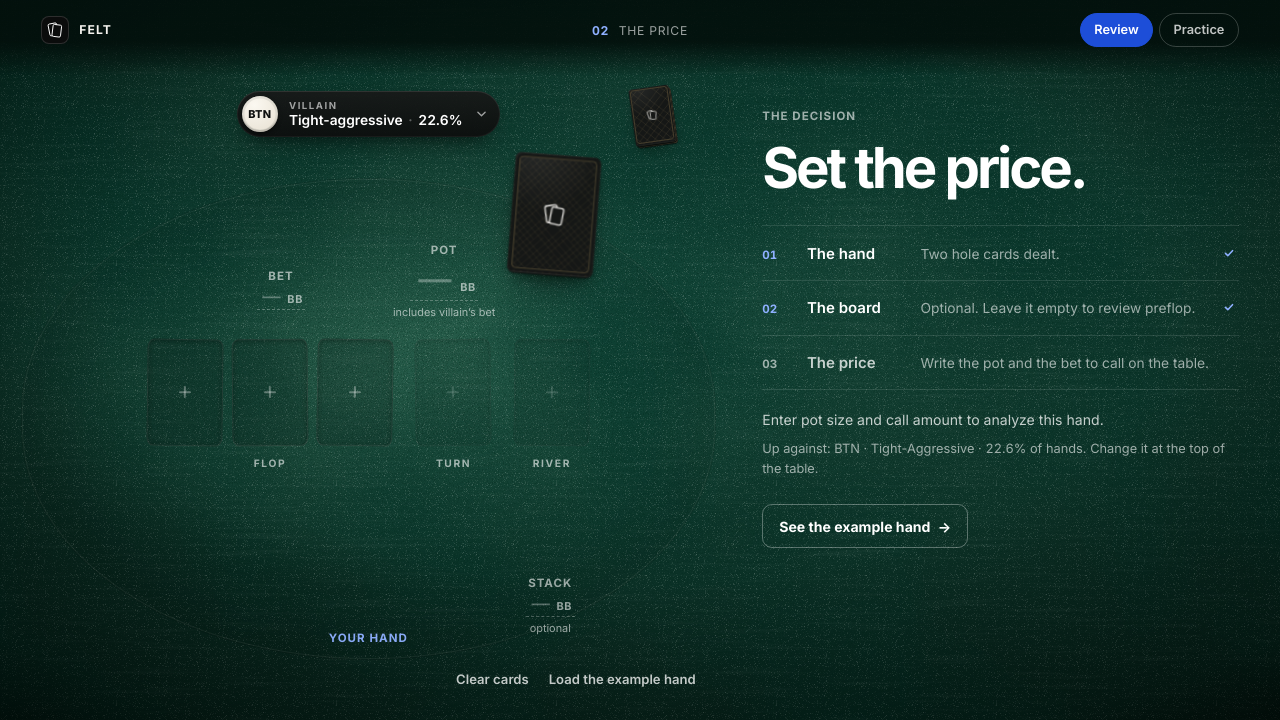
Test case: card selection › fills the clicked hole and community seats independently
Step 1. Click the button named "Change Hole card 2: K of Spades" → x=421, y=555, box [372,489,469,621]
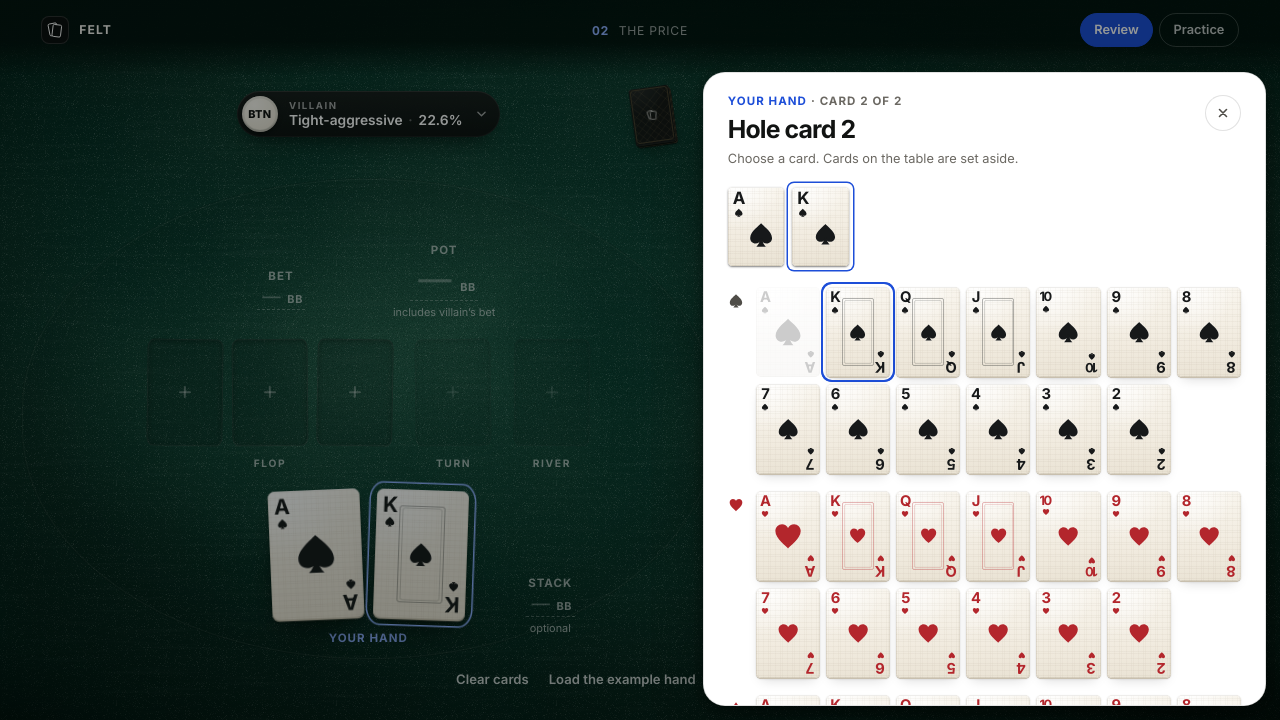
Step 2. Click the button named "Q of Hearts" → x=928, y=536, box [896,491,960,581]
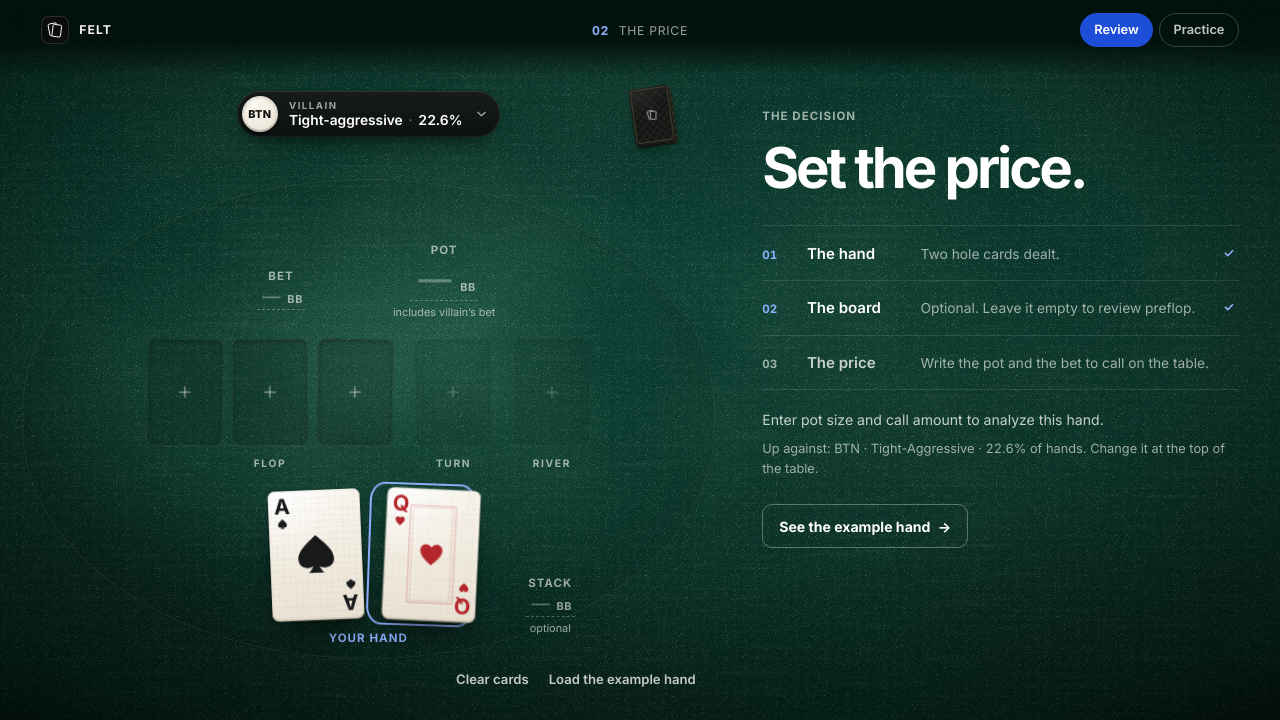
Expected: the button named "Change Hole card 1: A of Spades" is shown, [267,488,365,621]
Result: the dialog is gone
Result: the button named "Change Hole card 2: Q of Hearts" is shown at [372,489,469,621]
Step 3. Click the button named "Select River" → x=552, y=393, box [513,339,590,446]
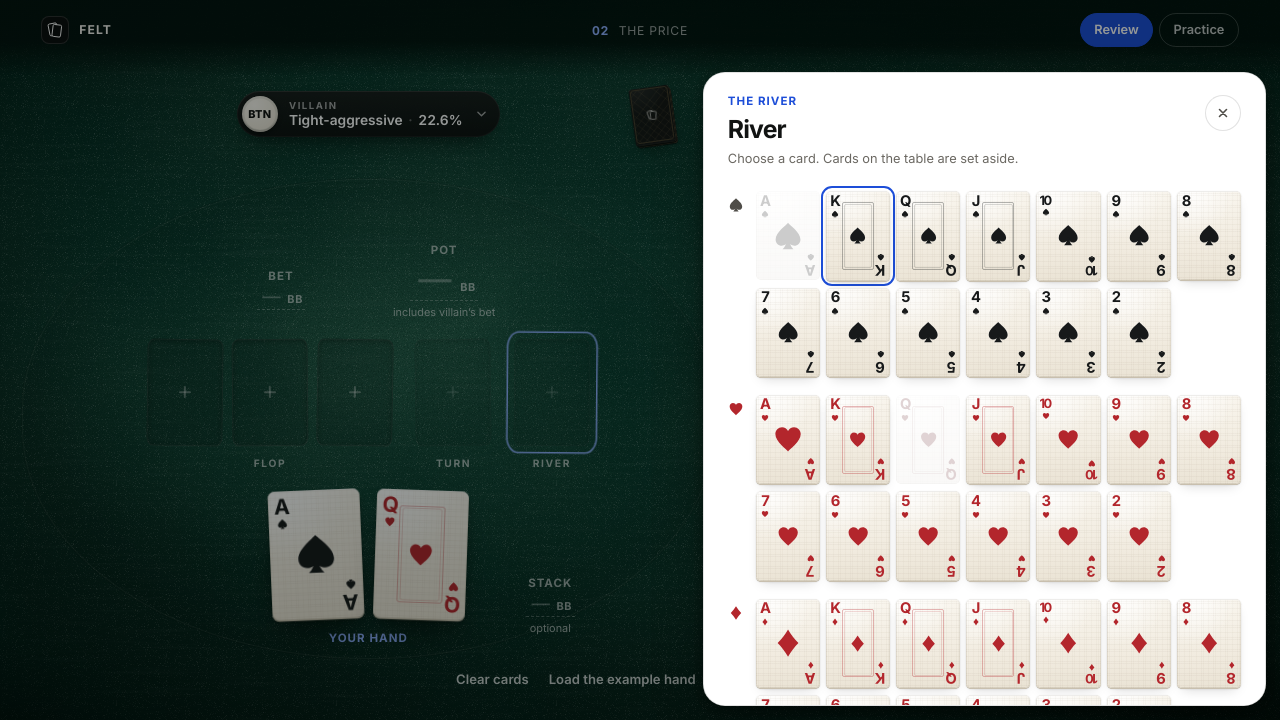
Step 4. Click the button named "10 of Hearts" → x=1069, y=440, box [1036,395,1101,484]
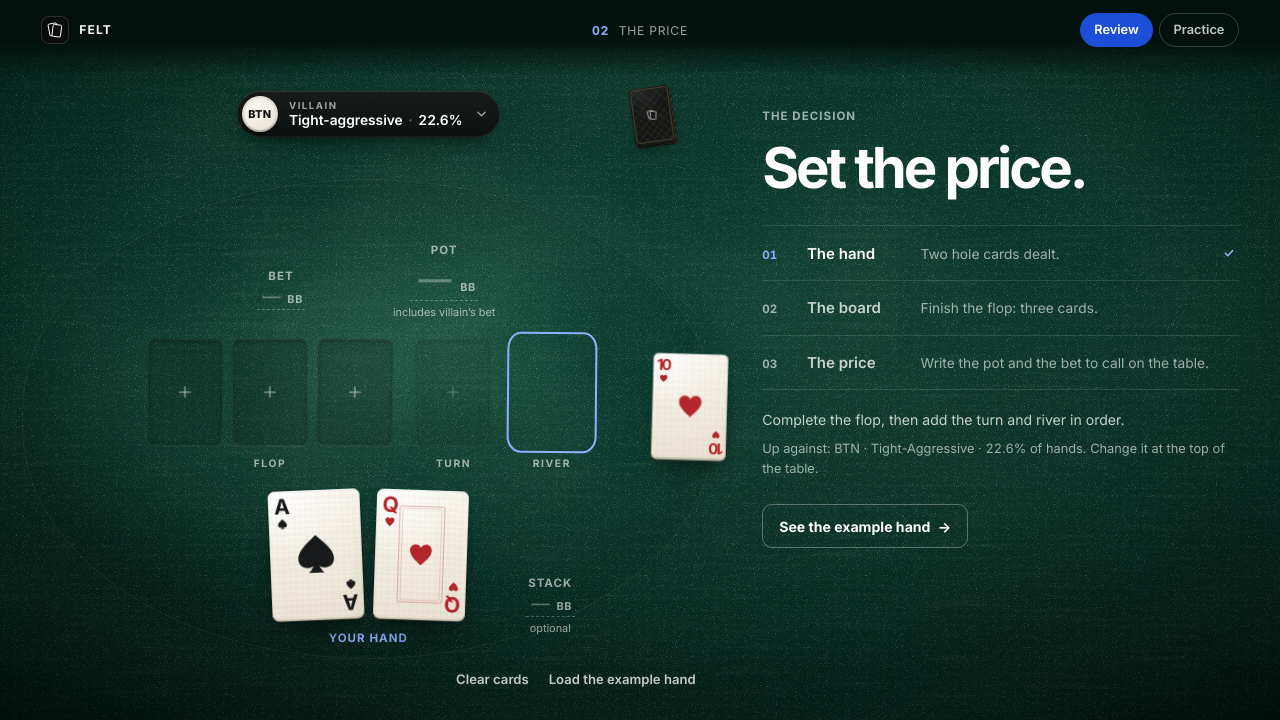
Result: the dialog is gone
Result: the button named "Change River: 10 of Hearts" is shown at [513,339,590,446]
